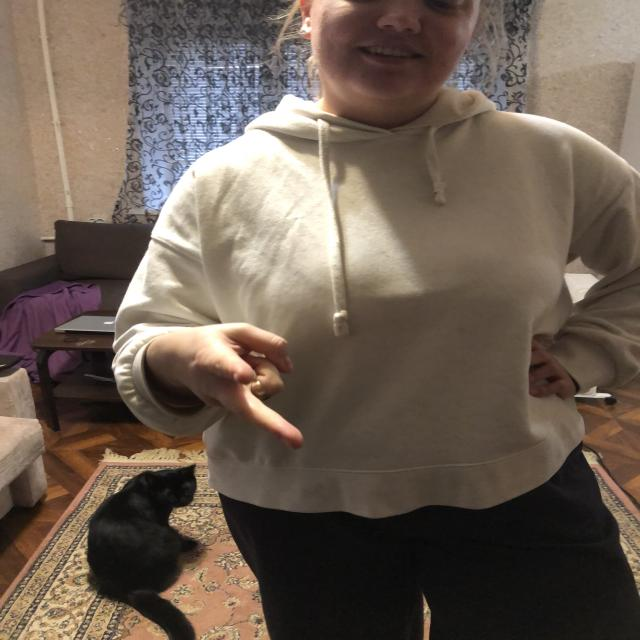scissors: (190, 321, 308, 450)
